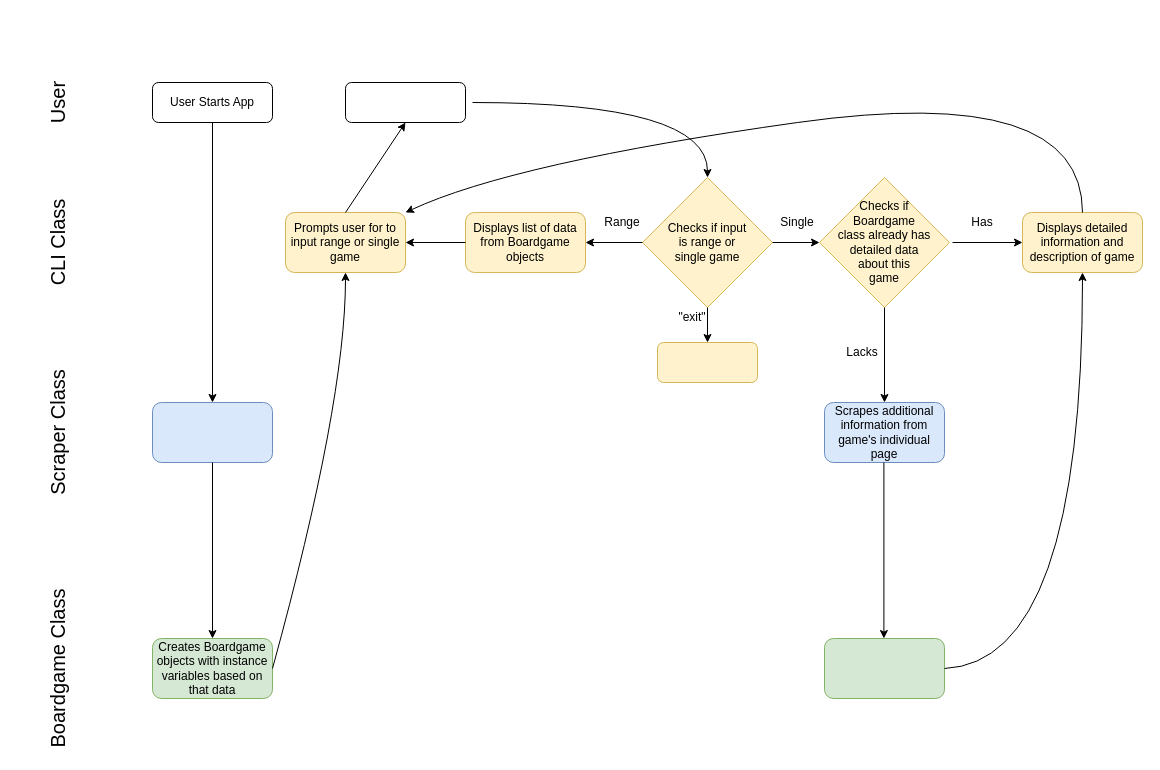
This 1160x770 diagram has some shape labels left out. The shapes that lost their labels are listed below. From the top down, each one's box as (x1, y1, x2, y2) in pixels, then its label:
(344, 82, 466, 122): User Inputs Action
(656, 342, 758, 382): Says goodbye and ends program
(152, 402, 272, 462): Scrapes information from Top 100 list
(824, 638, 944, 698): Updates Boardgame object instance variables with new data
